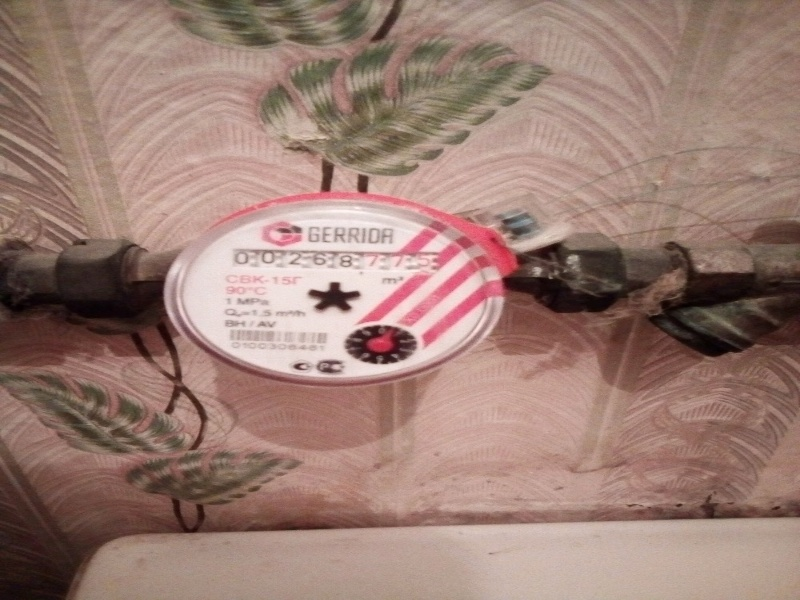meter: (229, 244, 440, 274)
